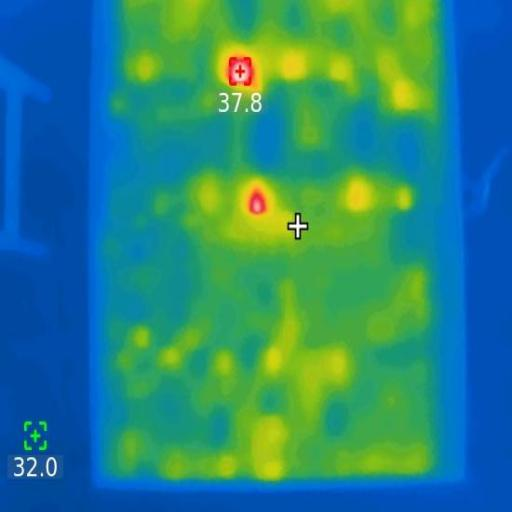hotspot: (228, 54, 256, 88), (248, 187, 268, 219)
